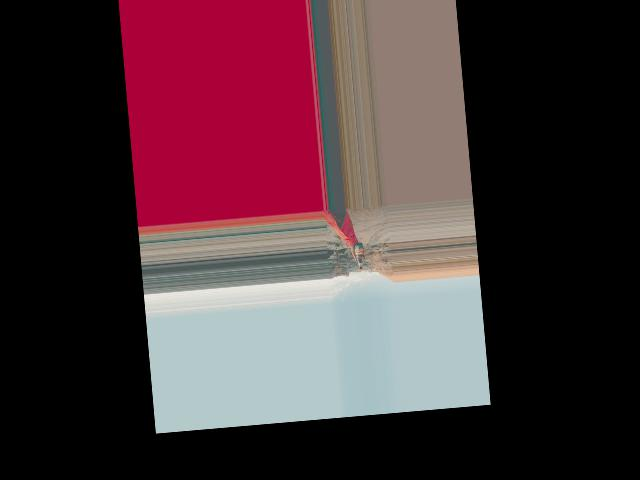beer: (353, 242, 365, 269)
